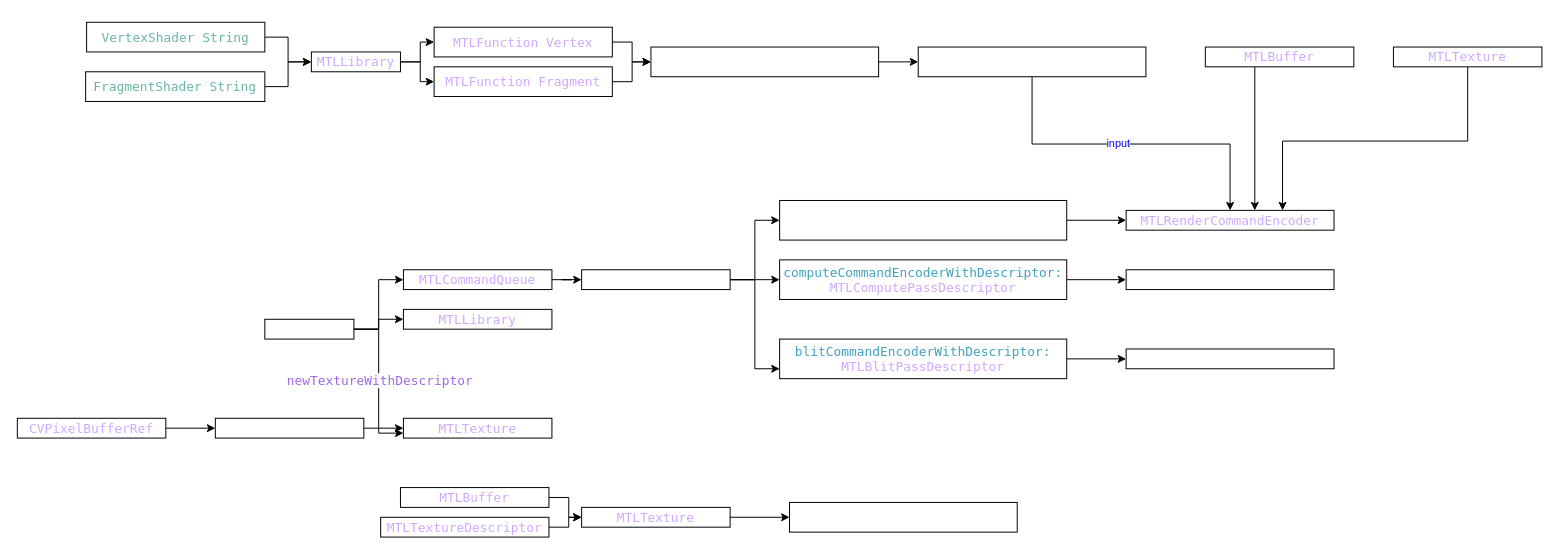
This 1559x554 diagram has some shape labels left out. The shapes that lost their labels are listed below. From the top down, each one's centre as x and y in pixels, then its label:
At point 764,61: "MTLRenderPipelineDescriptor".
At point 1031,61: "MTLRenderPipelineState".
At point 923,219: "renderCommandEncoderWithDescriptor: MTLRenderPassDescriptor".
At point 655,279: "MTLCommandBuffer".
At point 1229,279: "MTLComputeCommandEncoder".
At point 309,328: "MTLDevice".
At point 1229,358: "MTLBlitCommandEncoder".
At point 289,427: "CVMetalTextureRef".
At point 903,516: "MTLRenderPassDescriptor".
